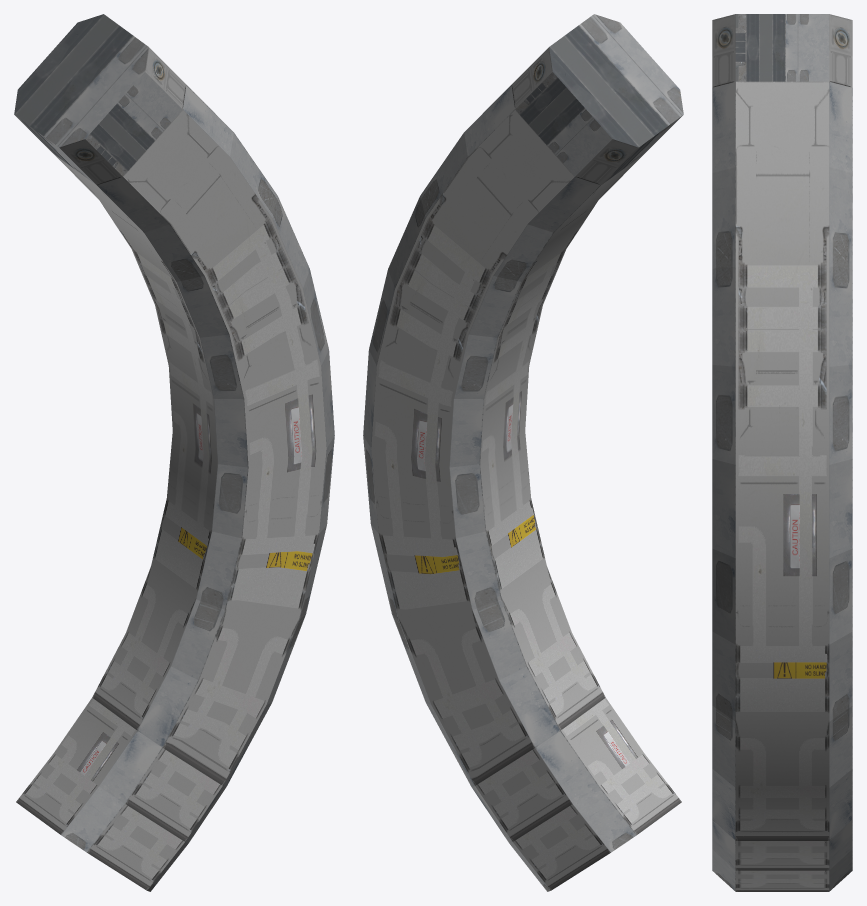
File: SM_PillarsB_acc4.fbx
3 renders of one model, left to right at view 1: azimuth 30°, elevation 25°; view 2: azimuth 150°, elevation 25°; view 3: azimuth 270°, elevation 25°, orthographic. The views are drawn at different scales.
Visible parts, largest first — view 1: SM_PillarsB_acc4_LOD0; view 2: SM_PillarsB_acc4_LOD0; view 3: SM_PillarsB_acc4_LOD0.
Boxes of the visible parts, x1,y1,x2,y2 form: SM_PillarsB_acc4_LOD0: [14, 14, 334, 891]; SM_PillarsB_acc4_LOD0: [363, 14, 683, 891]; SM_PillarsB_acc4_LOD0: [712, 14, 852, 891].
Bounding box in the file's own units: 141 × 60 × 414.
2 materials, 2 textured.
